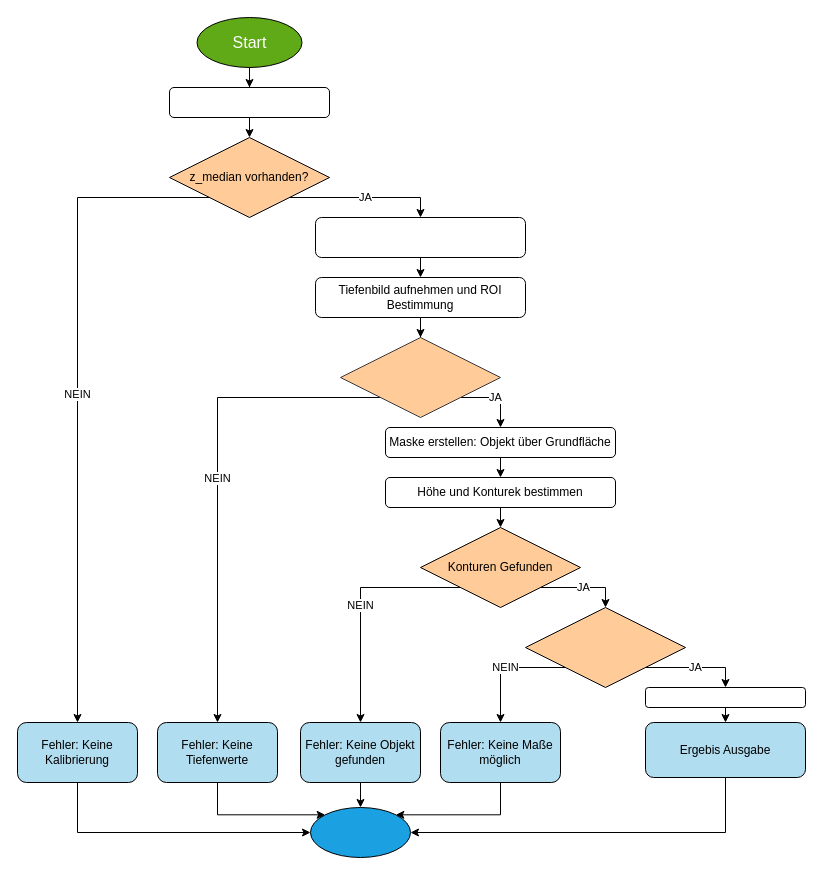
Some shapes in this 823 by 875 pixel diagram are drawn without their labels. The shapes that lost their labels are listed below. From the top down, each one's centre as x and y in pixels, then its label:
(249,102): Kalibrierung laden
(420,237): Pipeline erstellen und Kamera starten
(420,377): Gültige Tiefenwerte in ROI
(605,647): Tiefenwerte Gültig?
(725,697): Maße berechnen
(360,832): Ende
